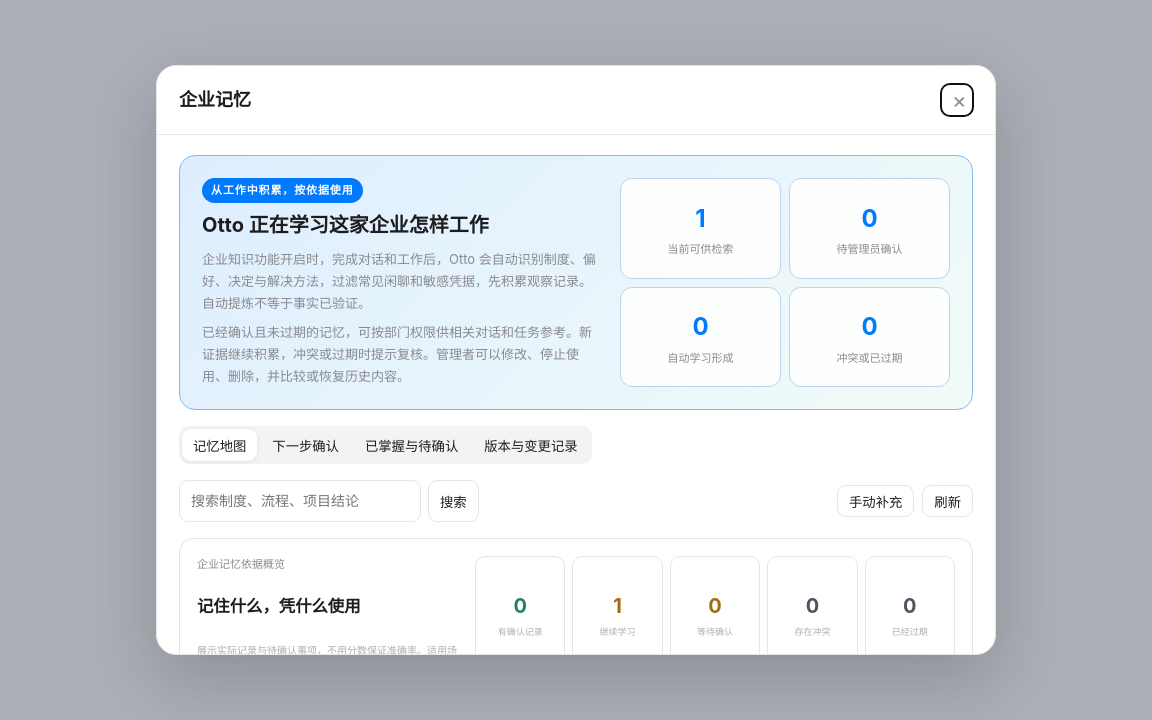
Test: WorkspaceDialogs › 恢复历史内容绑定当前版本并显示待确认，不声称立刻启用
Click the tab "已掌握与待确认" at [412, 445], box x1=354 y1=429 x2=469 y2=461
(page scrolled)
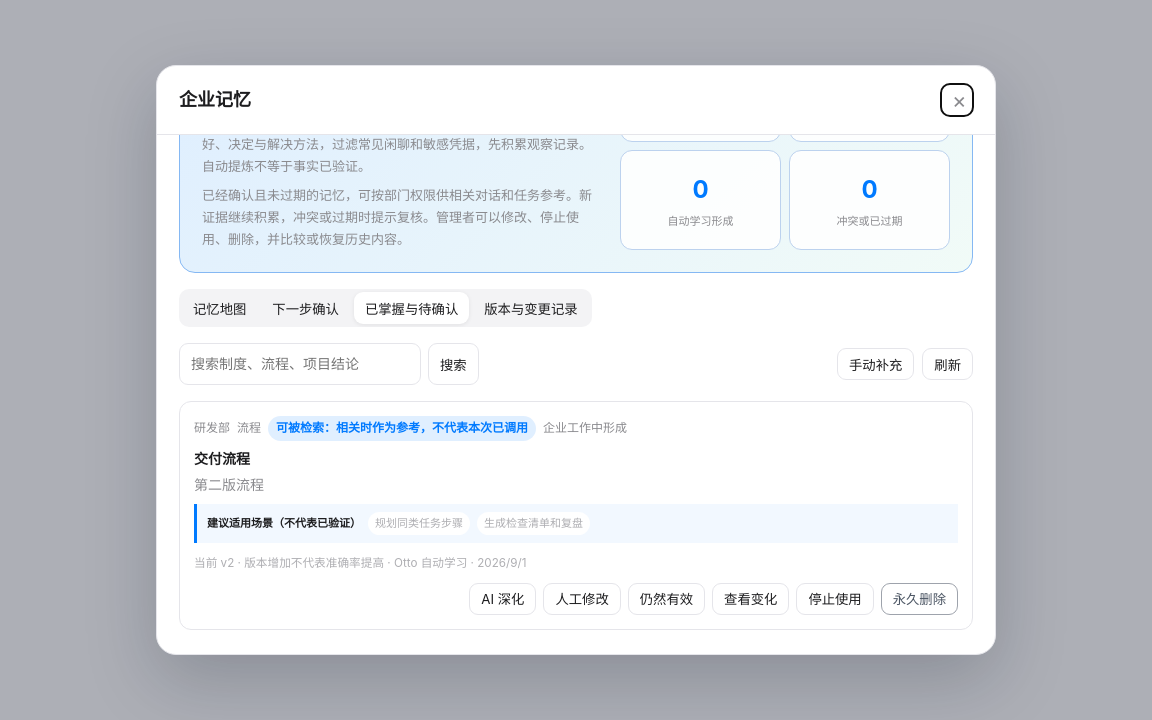
Click the button "查看变化" at [751, 599], box x1=712 y1=583 x2=789 y2=615
(page scrolled)
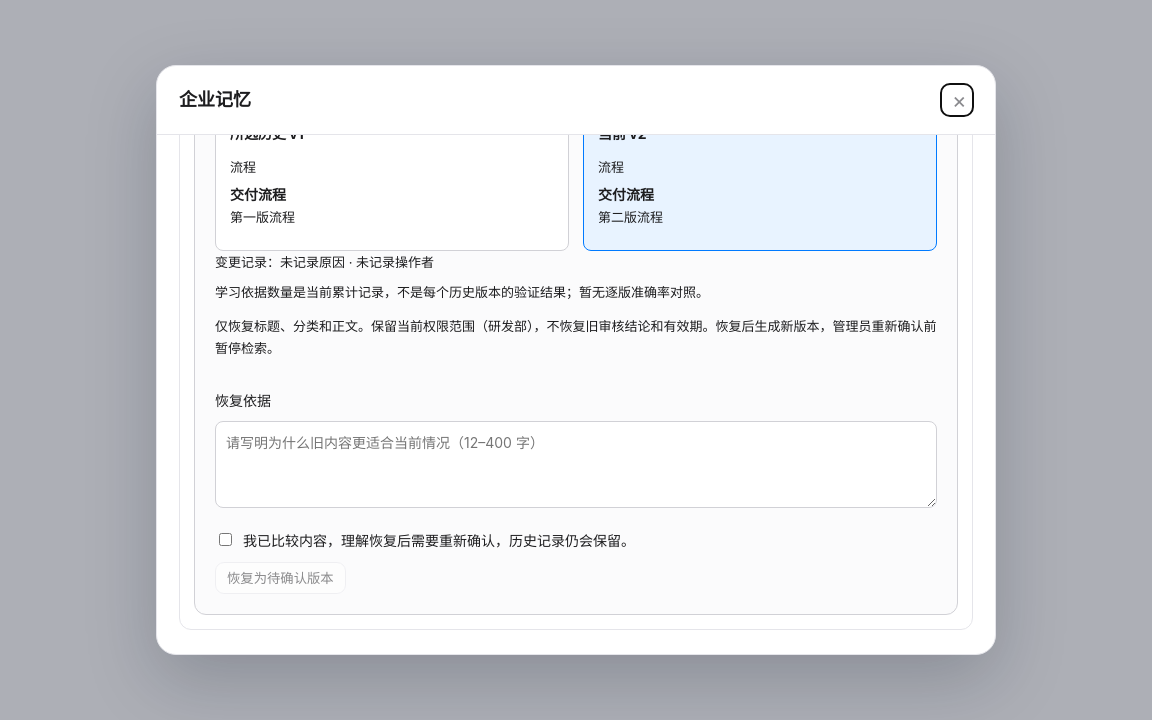
Type "流程已经调整，需要恢复旧版并再次核对" into the text box labelled "恢复依据" at [576, 465], box x1=215 y1=421 x2=937 y2=508
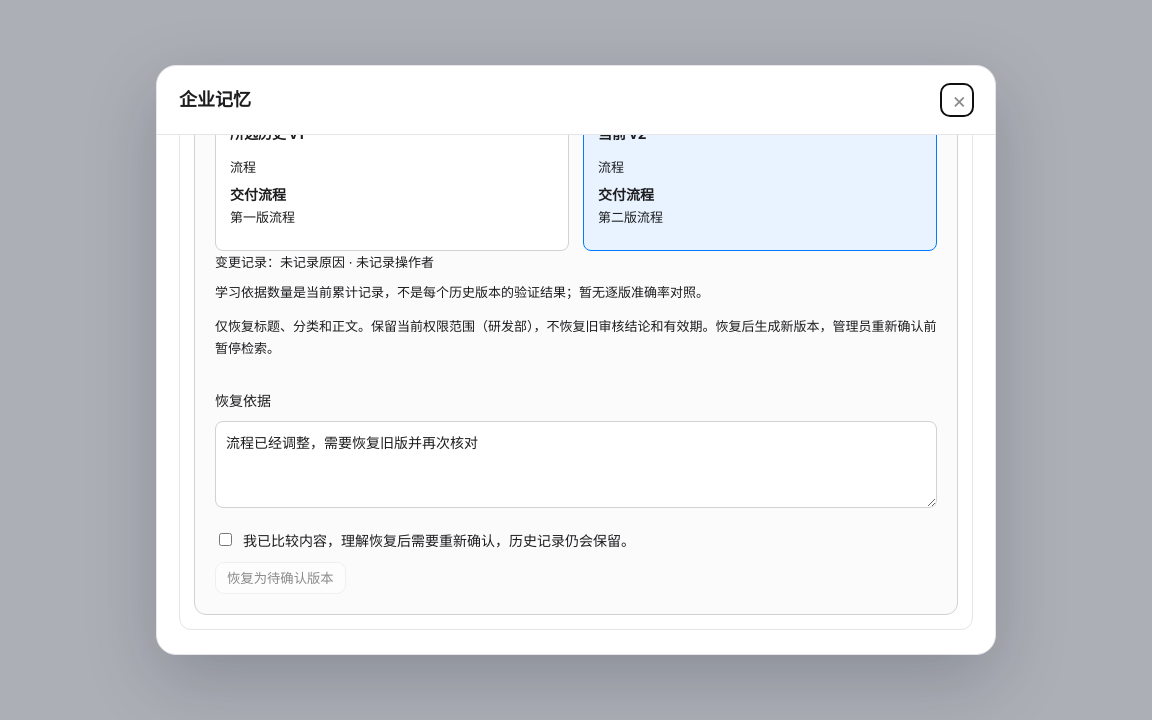
Click the checkbox at [226, 540], box x1=219 y1=533 x2=232 y2=546
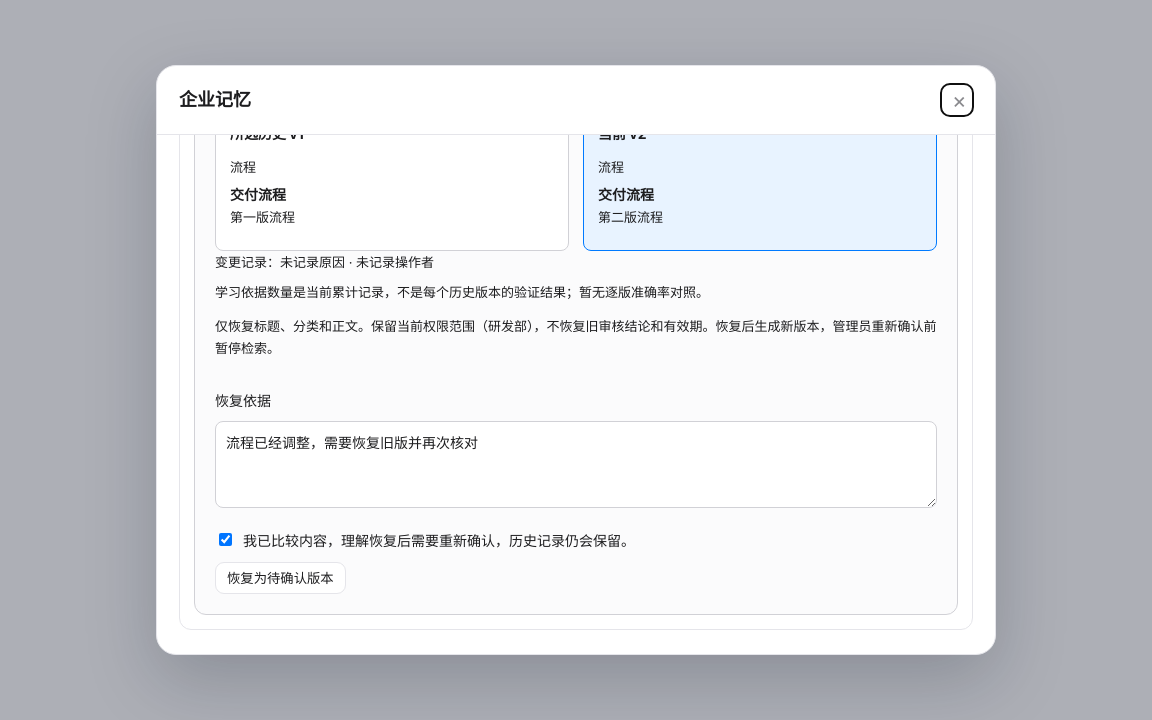
Click the button "恢复为待确认版本" at [280, 578], box x1=215 y1=562 x2=346 y2=594
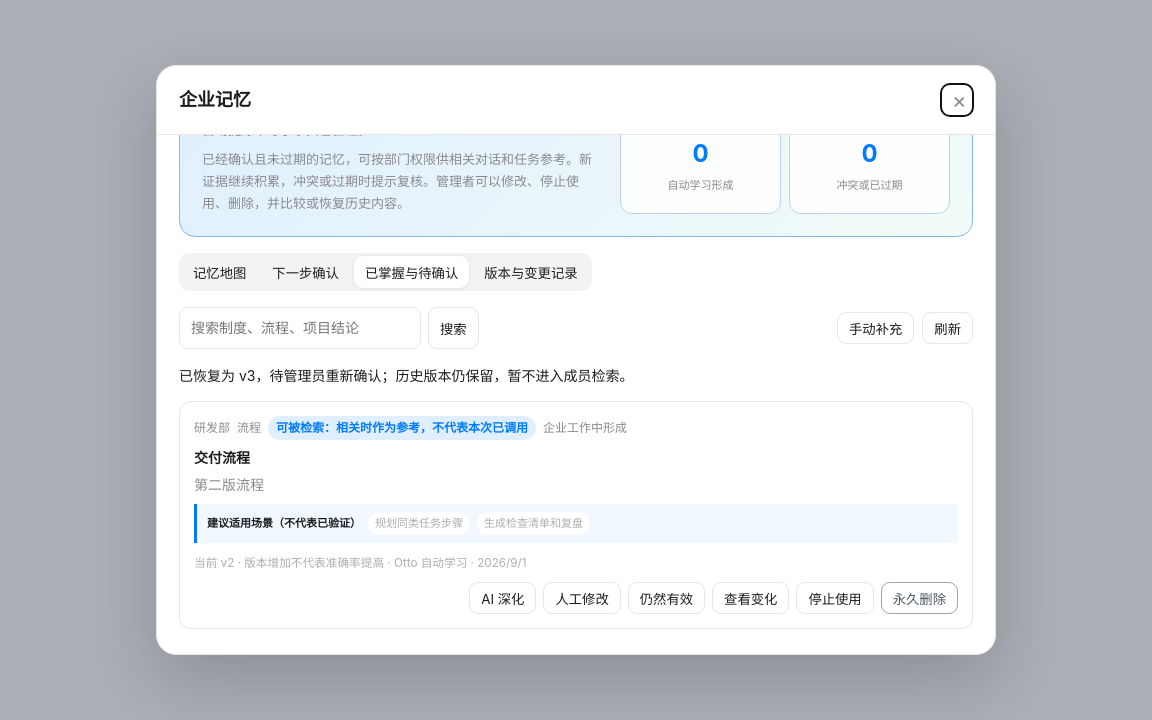
Check: the text "已恢复为 v3，待管理员重新确认；历史版本仍保留，暂不进入成员检索。" is shown, box x1=179 y1=367 x2=634 y2=384
